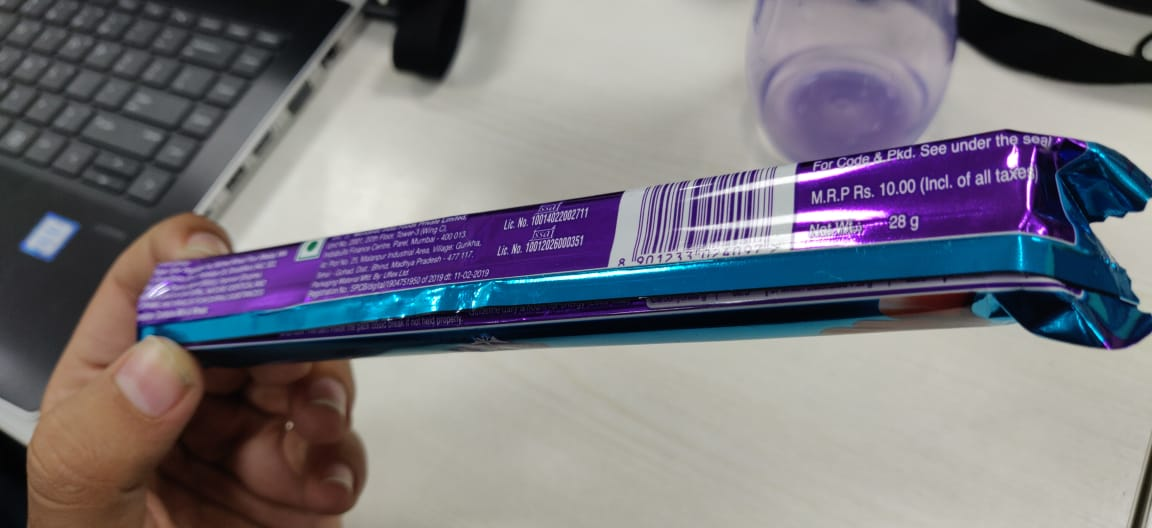perk: (127, 126, 1152, 371)
